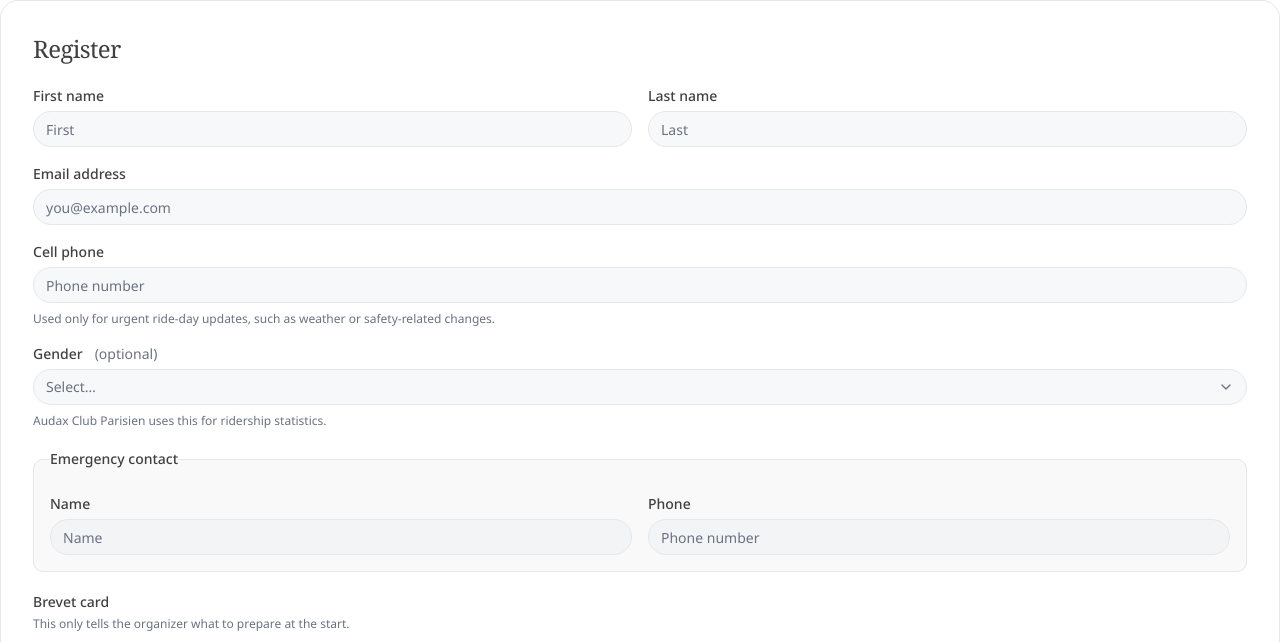
it: RegistrationForm › email typo-guard › accepting the suggestion rewrites the field and hides the hint
Step 1. Type "rider@gmail.co" into the field labelled "Email address" → (640, 207), box [33,189,1247,225]
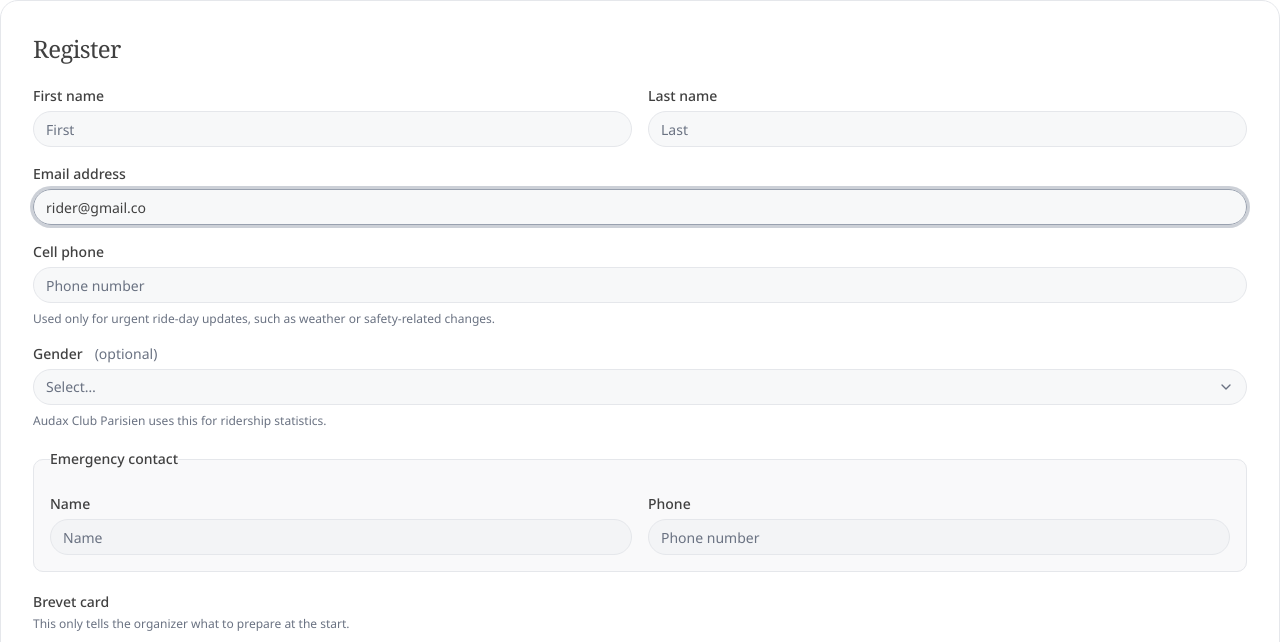
Step 2. Press Tab
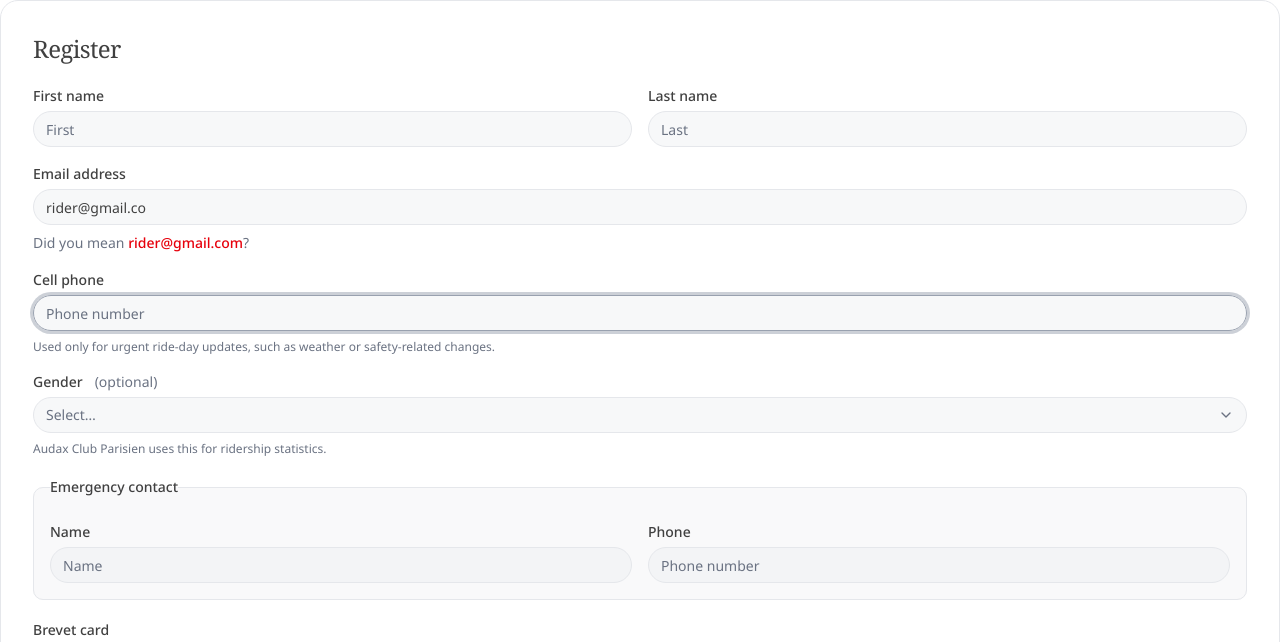
Step 3. Click the button with aria-label "use suggested email rider@gmail.com" → (186, 243), box [128,233,243,253]
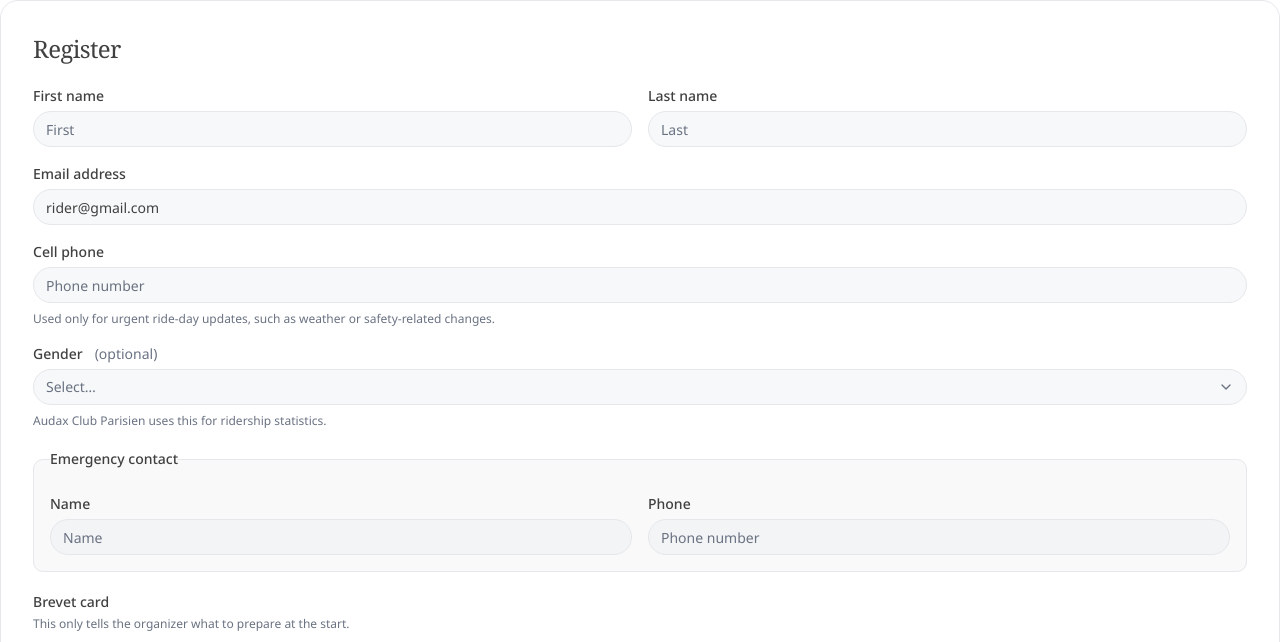
Check: the field labelled "Email address" holds "rider@gmail.com", box [33,189,1247,225]
Check: the text "Did you mean" is gone
